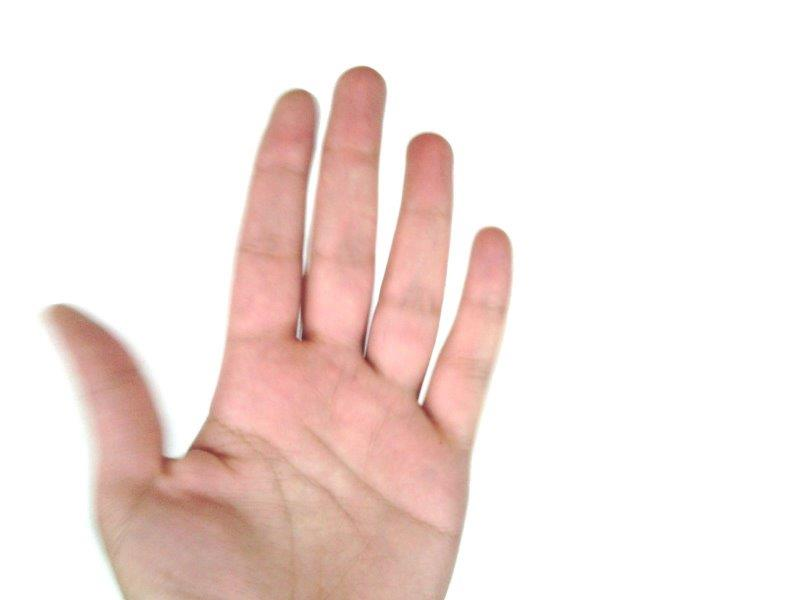hand: (49, 68, 513, 600)
